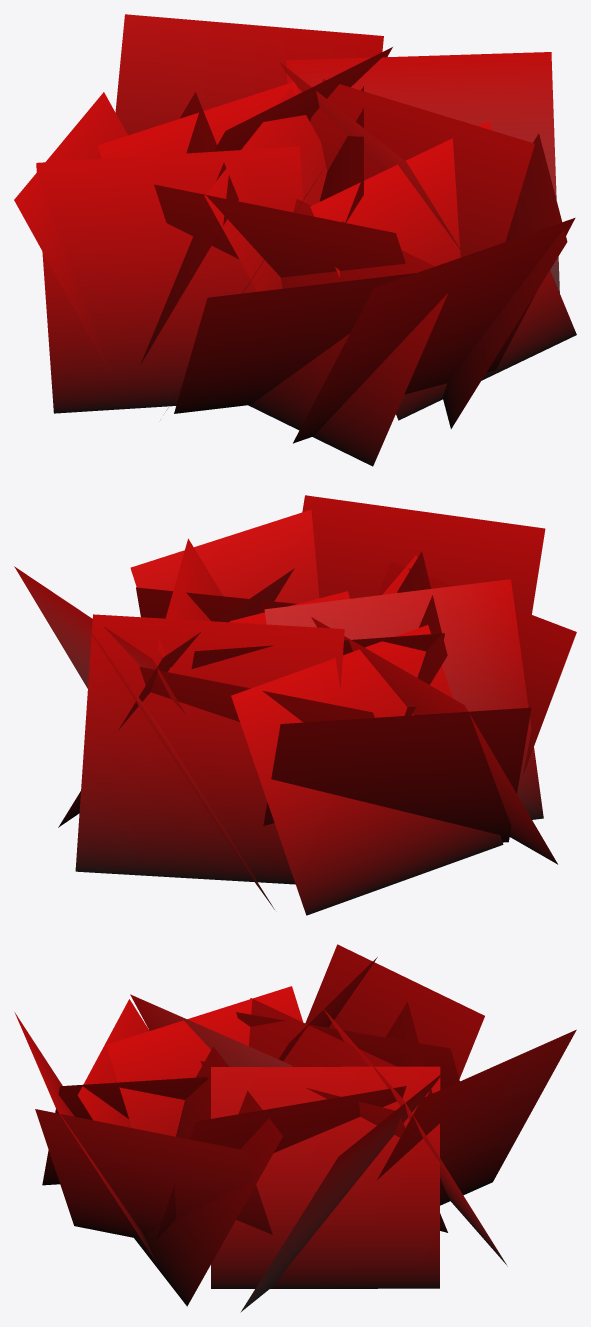
The model's file is Grass01.glb.
3 views of the same model, one above another, from view 1: azimuth 30°, elevation 25°; view 2: azimuth 150°, elevation 25°; view 3: azimuth 270°, elevation 25° (orthographic). The views are drawn at different scales.
Parts seen in each view (by area): view 1: Grass01_LOD0; view 2: Grass01_LOD0; view 3: Grass01_LOD0.
Boxes of the visible parts, x1,y1,x2,y2 form: Grass01_LOD0: [14, 14, 576, 466]; Grass01_LOD0: [14, 495, 576, 915]; Grass01_LOD0: [14, 944, 576, 1312].
Size of the model in its own units: 1.15 by 0.4401 by 1.2.
